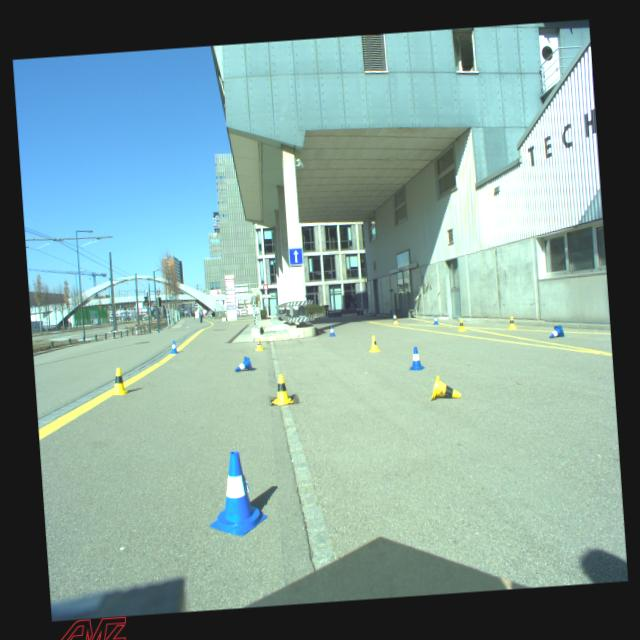blue_cone: (204, 449, 268, 538), (406, 346, 426, 371), (234, 355, 252, 372), (548, 324, 564, 338), (170, 339, 178, 354), (328, 325, 336, 336), (432, 314, 438, 324), (392, 313, 395, 320)
yellow_cone: (428, 372, 462, 400), (269, 374, 294, 406), (110, 366, 130, 396), (367, 335, 381, 352), (254, 337, 264, 351), (456, 318, 466, 331), (507, 315, 516, 329), (392, 316, 398, 324)
